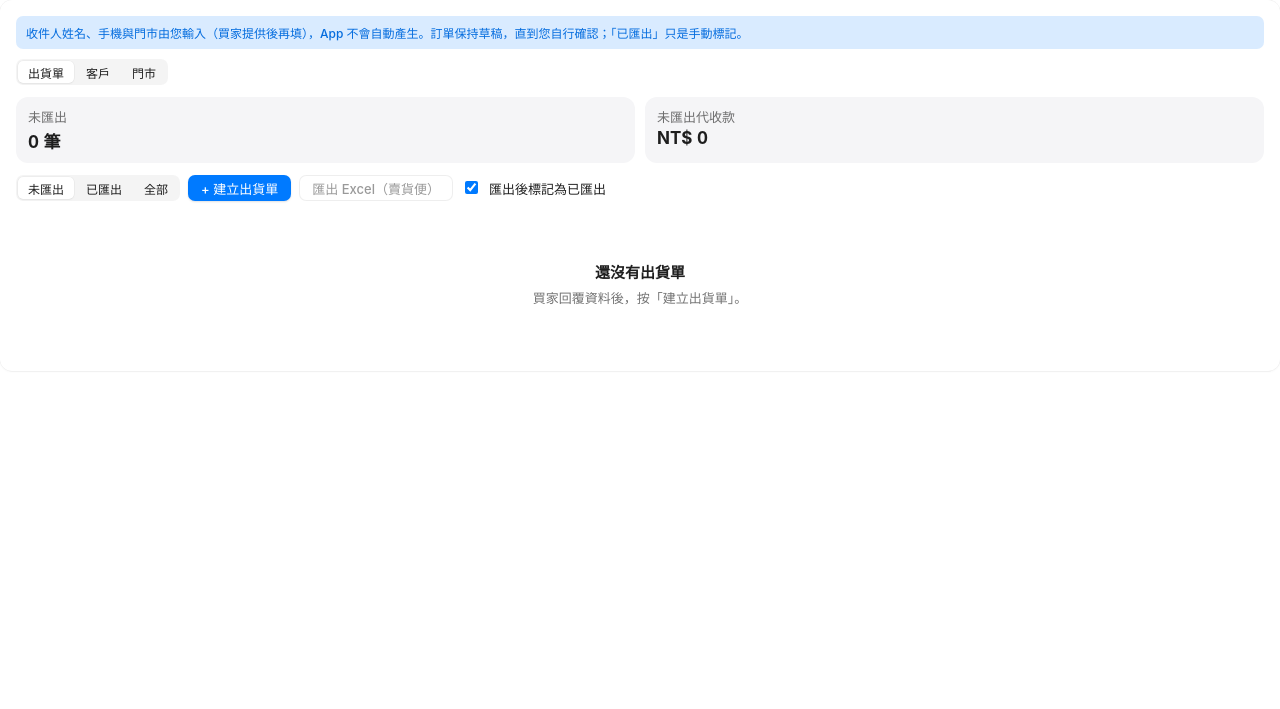
Scenario: ShipPage › suggests stores while the number is being typed, then confirms it with the address
Click the button "+ 建立出貨單". click: (240, 188)
box: [188,175,291,201]
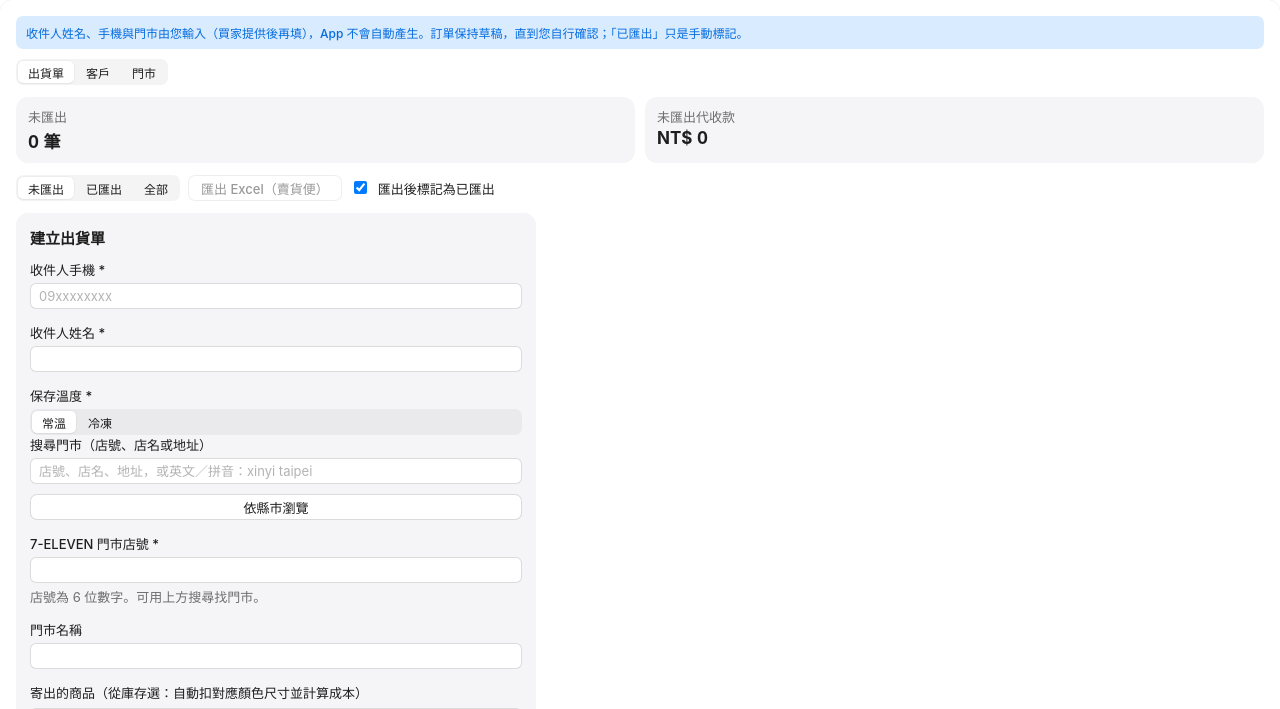
Type "260" into the field labelled "7-ELEVEN 門市店號 *". click: (276, 570)
box: [30,557,522,583]
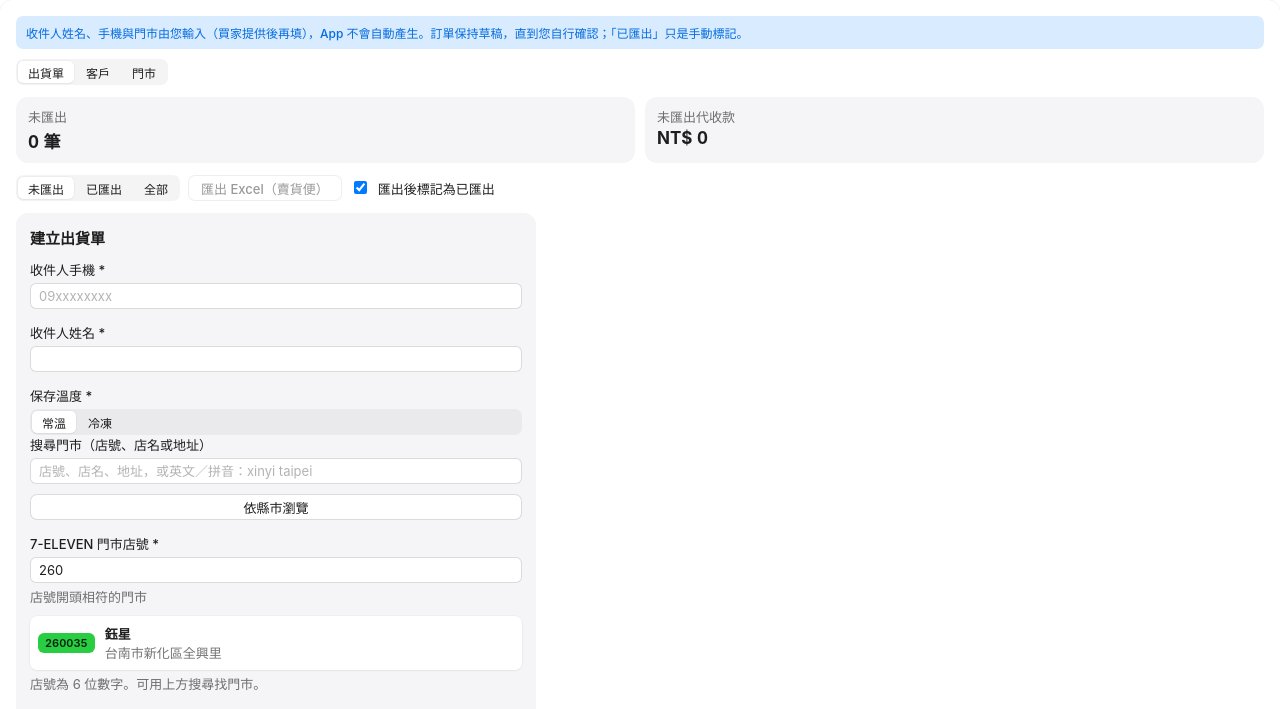
Click the text "鈺星". click: (118, 634)
box: [105,626,131,642]
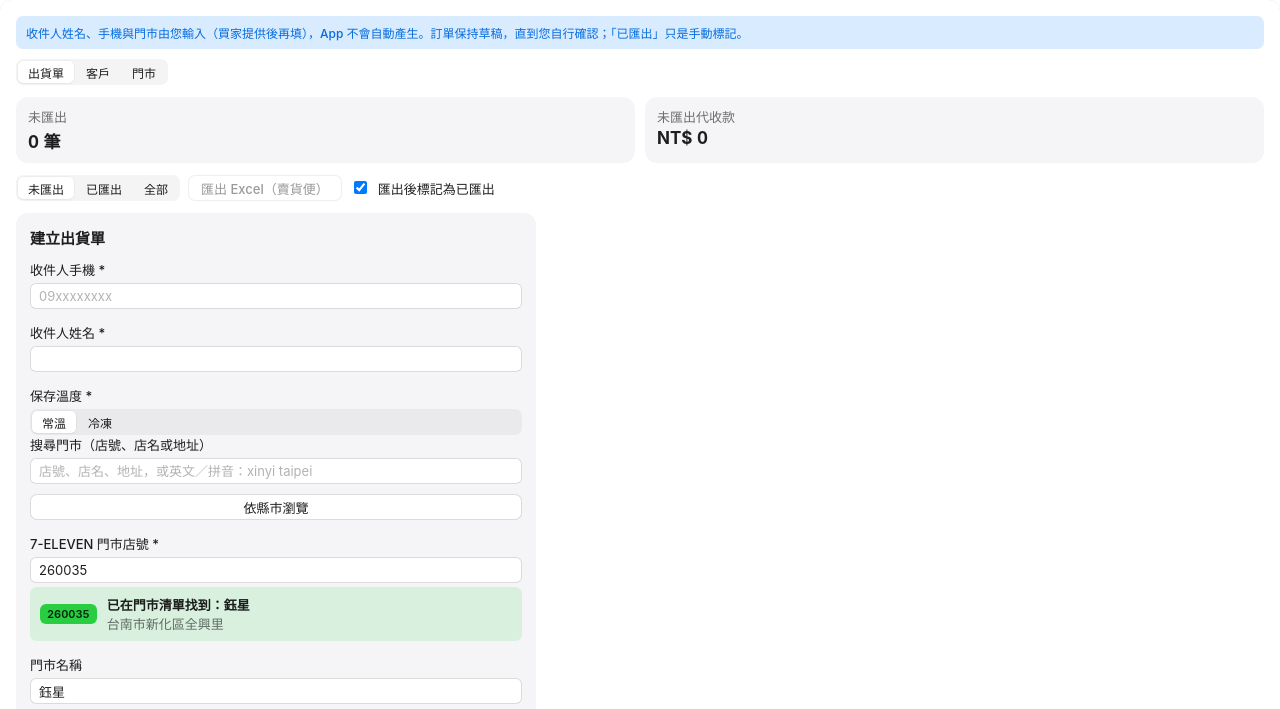
Result: the field labelled "7-ELEVEN 門市店號 *" holds "260035" at [30,557,522,583]
Result: the message named "門市確認" shows "台南市新化區全興里" at [107,616,224,632]
